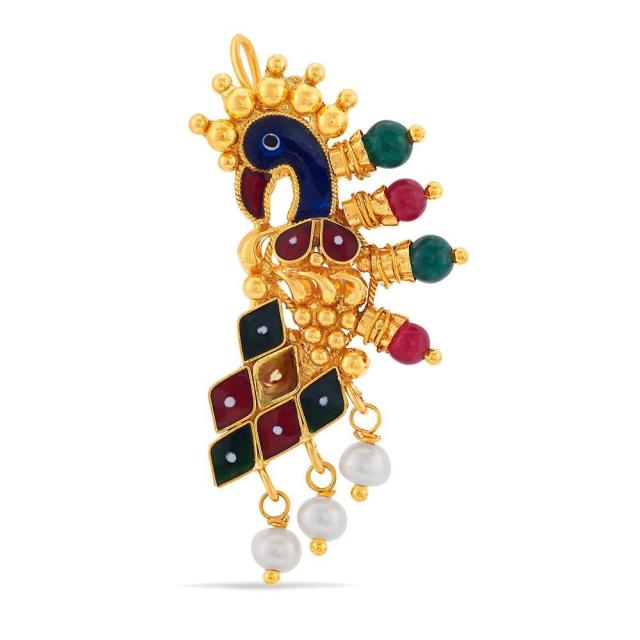missing gem: (255, 347, 299, 407)
